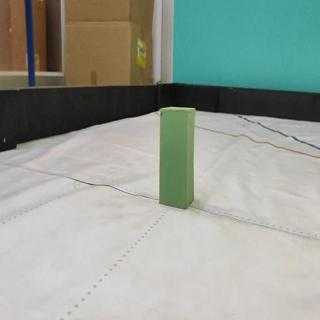greenbox: (159, 105, 196, 211)
